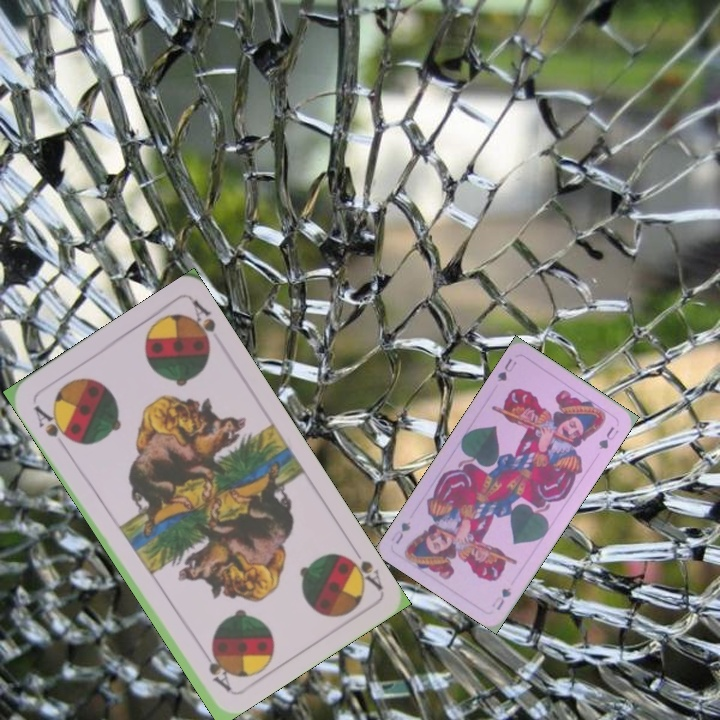GU: (493, 354, 520, 384), (488, 583, 514, 613)
SA: (337, 542, 386, 593), (30, 401, 75, 446)
